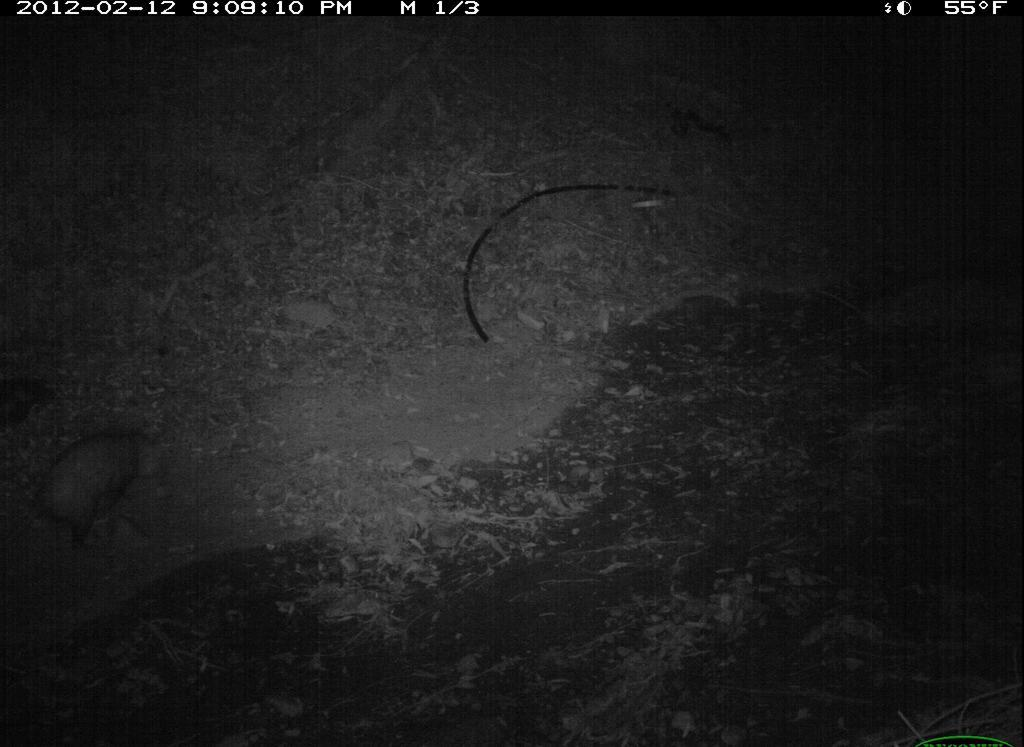opossum: (16, 401, 204, 588)
